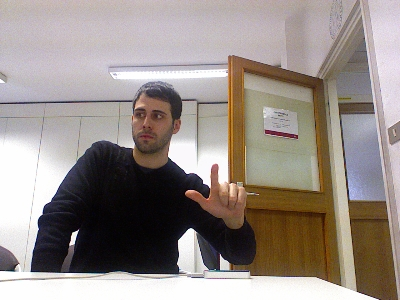枪: (183, 163, 247, 220)
